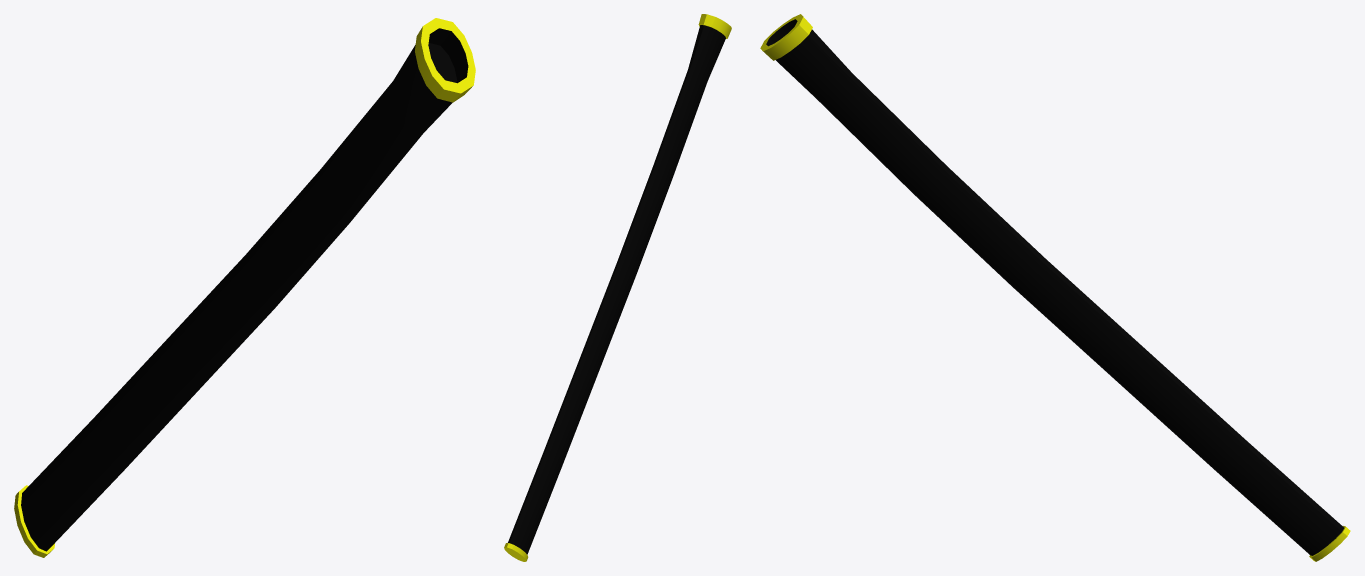
File: Sheathe.fbx
The picture shows the model from 3 angles, left to right: view 1: azimuth 30°, elevation 25°; view 2: azimuth 150°, elevation 25°; view 3: azimuth 270°, elevation 25°; orthographic projection. The views are drawn at different scales.
Parts seen in each view (by area): view 1: Sheathe; view 2: Sheathe; view 3: Sheathe.
Boxes of the visible parts, box(x1,y1,x2,y2) form: Sheathe: box(14, 18, 475, 557); Sheathe: box(504, 14, 731, 561); Sheathe: box(760, 14, 1350, 561).
Size of the model in its own units: 4.38 by 74.61 by 72.83.
